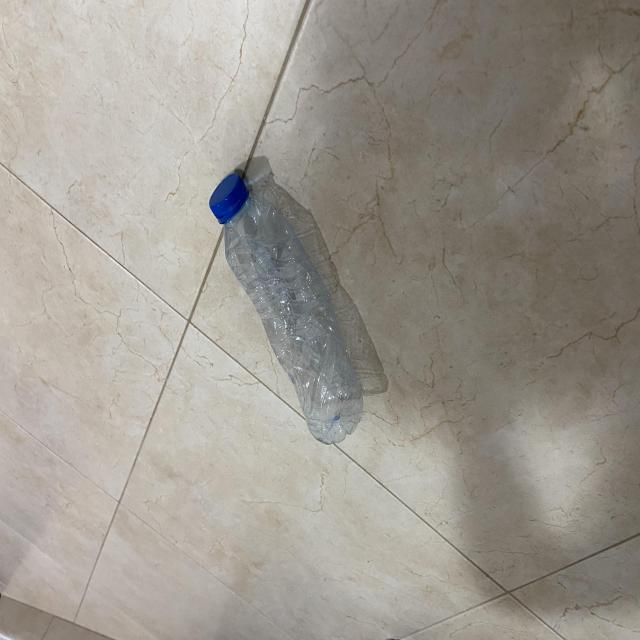bottle: (198, 169, 374, 460)
